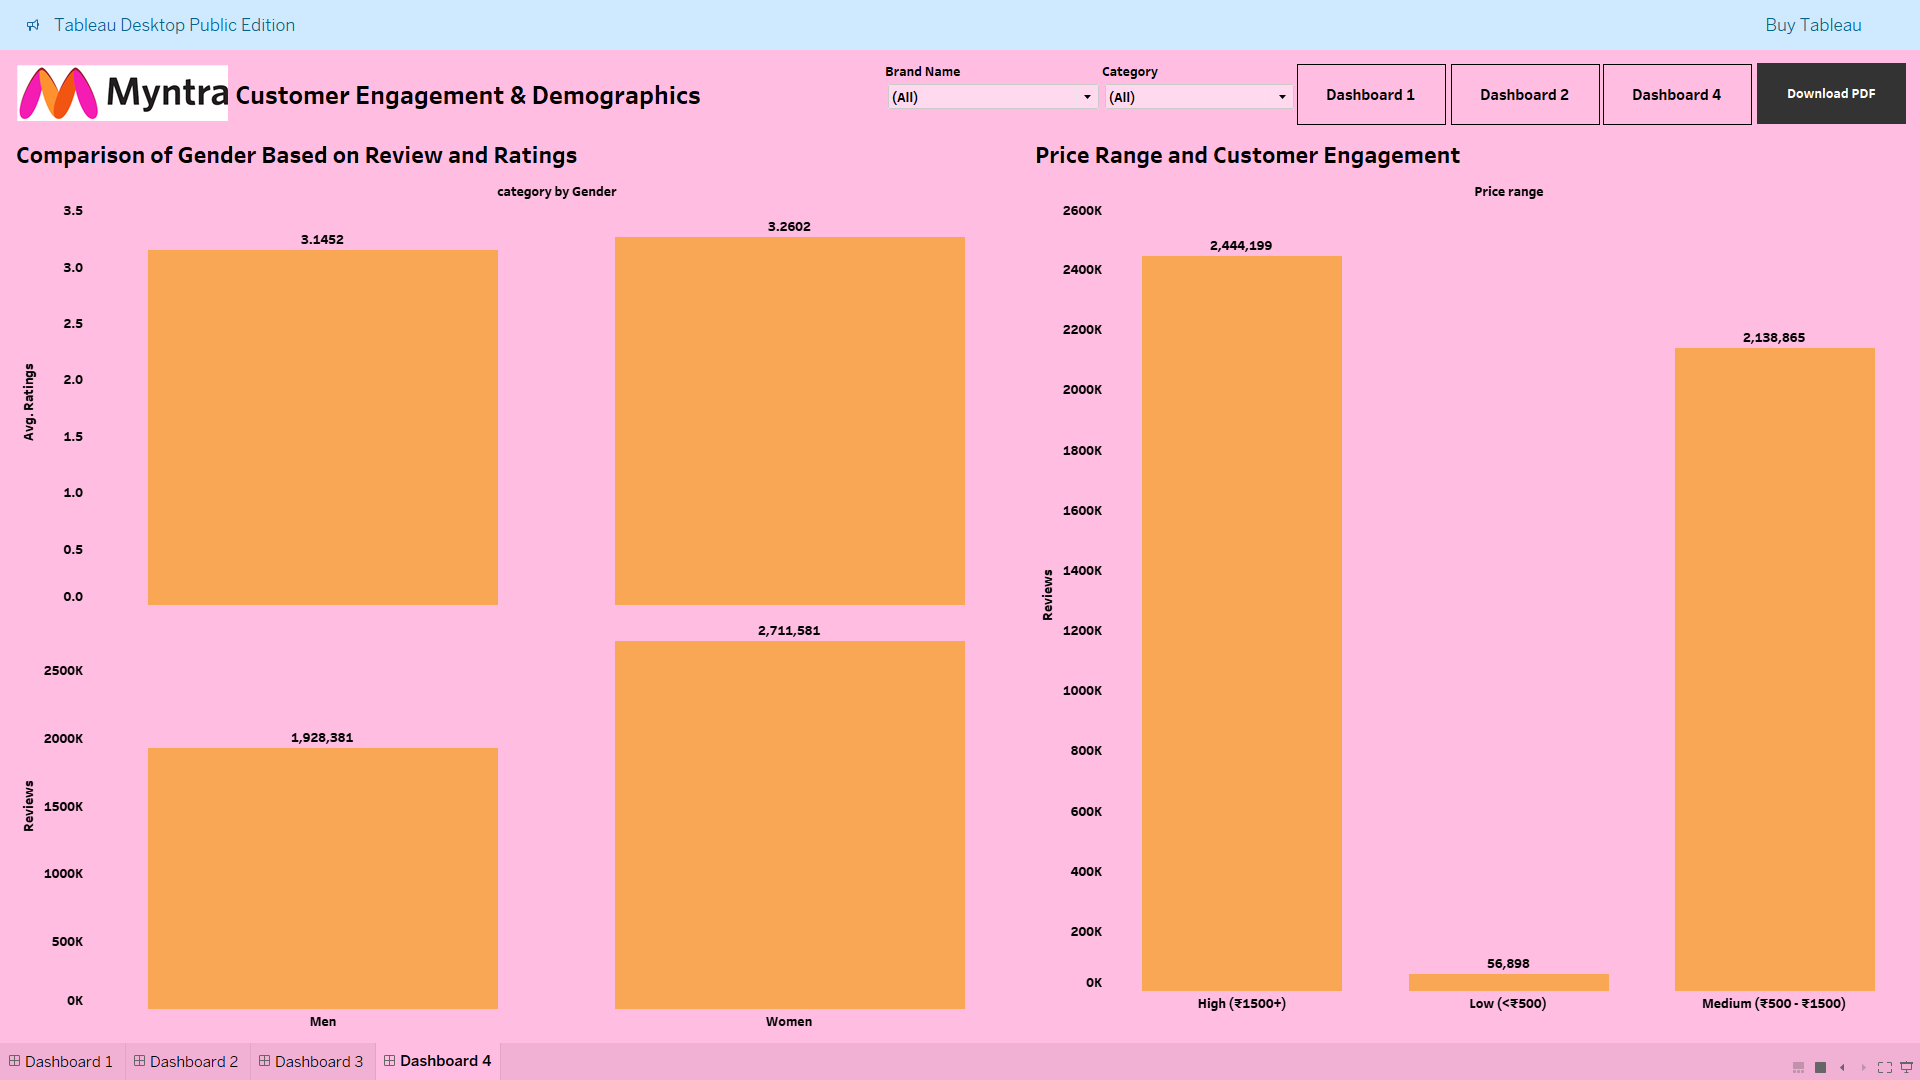

This screenshot's page, from the dashboard's own definition file:
{"tool":"tableau","page":{"name":"Dashboard 4","canvas":[1000,1000],"units":"permille","ordinal":3},"visuals":[{"type":"image","param":"Image/Logo.png","box":[7,8.7,114.3,69.9]},{"type":"text","box":[118.7,8.7,344.1,69.9]},{"type":"dashboard-object","box":[913,8.7,81.9,69.9]},{"type":"dashboard-object","box":[673.6,10,81.9,69.9]},{"type":"dashboard-object","box":[753.6,10,81.9,69.9]},{"type":"dashboard-object","box":[833,10,81.9,69.9]},{"type":"filter","title":"Comparison of Gender Based on Review and Ratings","param":"[federated.0ox6rot0ti0j8r0ztm70f11s7nil].[none:BrandName:nk]","box":[460.9,12.5,113,68.7]},{"type":"filter","title":"Comparison of Gender Based on Review and Ratings","param":"[federated.0ox6rot0ti0j8r0ztm70f11s7nil].[none:Category:nk]","box":[574,12.5,101.6,62.4]},{"type":"worksheet","title":"Comparison of Gender Based on Review and Ratings","mark":"Automatic","rows":["Ratings","Reviews"],"cols":["category_by_Gender"],"box":[5.2,82.4,529.6,907.6]},{"type":"worksheet","title":"Price Range and Customer Engagement","mark":"Automatic","rows":["Reviews"],"cols":["Calculation_814870071775342593"],"box":[534.8,82.4,460.1,907.6]}]}

Visuals, with their boxes on the dashboard's canvas, which has no fixed pixel size, in thousandths of its width and height (x1, y1, x2, y2). These are canvas units, not pixel positions in the 1920x1080 screenshot, which may show the page scaled, cropped or inside an application window:
image: BBox(7, 9, 121, 79)
text: BBox(119, 9, 463, 79)
dashboard-object: BBox(913, 9, 995, 79)
dashboard-object: BBox(674, 10, 756, 80)
dashboard-object: BBox(754, 10, 836, 80)
dashboard-object: BBox(833, 10, 915, 80)
"Comparison of Gender Based on Review and Ratings" filter: BBox(461, 12, 574, 81)
"Comparison of Gender Based on Review and Ratings" filter: BBox(574, 12, 676, 75)
"Comparison of Gender Based on Review and Ratings" worksheet: BBox(5, 82, 535, 990)
"Price Range and Customer Engagement" worksheet: BBox(535, 82, 995, 990)
